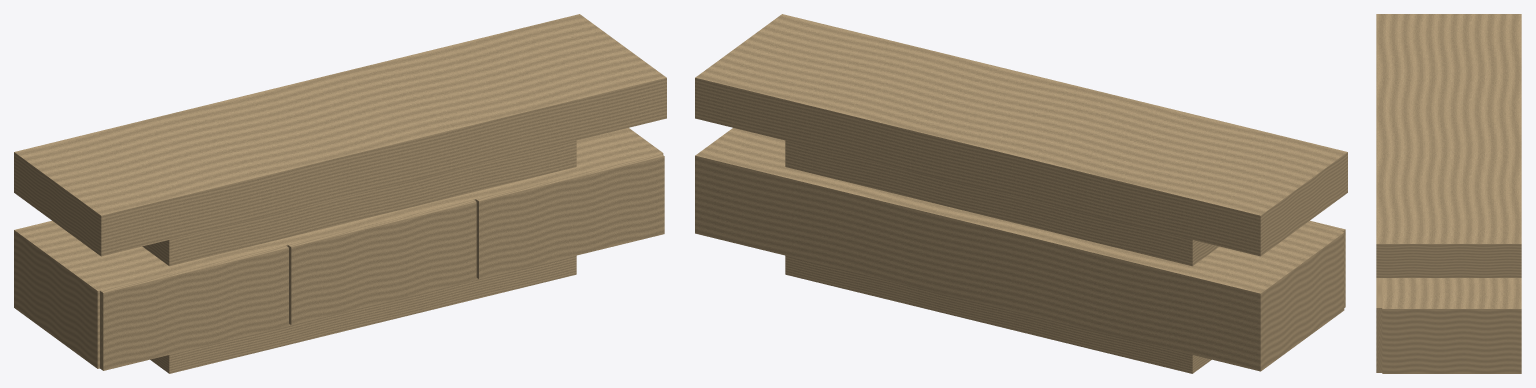
3 renders of one model, left to right at view 1: azimuth 30°, elevation 25°; view 2: azimuth 150°, elevation 25°; view 3: azimuth 270°, elevation 25°, orthographic. The views are drawn at different scales.
Visible parts, largest first — view 1: 7 top_shelf, 2 drawer_cabinet_body, 5 right_drawer_front, 3 left_drawer_front, 4 center_drawer_front, 6 middle_riser, 1 bottom_plinth; view 2: 7 top_shelf, 2 drawer_cabinet_body, 6 middle_riser, 1 bottom_plinth; view 3: 7 top_shelf, 2 drawer_cabinet_body, 5 right_drawer_front.
Part boxes in pixels (x1,y1,x2,y2): 7 top_shelf: [14, 14, 666, 256]; 2 drawer_cabinet_body: [14, 128, 663, 368]; 5 right_drawer_front: [475, 153, 664, 279]; 3 left_drawer_front: [100, 245, 288, 370]; 4 center_drawer_front: [287, 199, 476, 324]; 6 middle_riser: [142, 140, 576, 266]; 1 bottom_plinth: [150, 255, 576, 373]; 7 top_shelf: [695, 14, 1347, 256]; 2 drawer_cabinet_body: [695, 128, 1344, 371]; 6 middle_riser: [785, 140, 1219, 266]; 1 bottom_plinth: [785, 255, 1211, 373]; 7 top_shelf: [1376, 14, 1521, 277]; 2 drawer_cabinet_body: [1382, 278, 1521, 373]; 5 right_drawer_front: [1376, 278, 1382, 372].
Bounding box in the file's own units: 3.19 × 1 × 0.85.
1 material, 1 textured.
